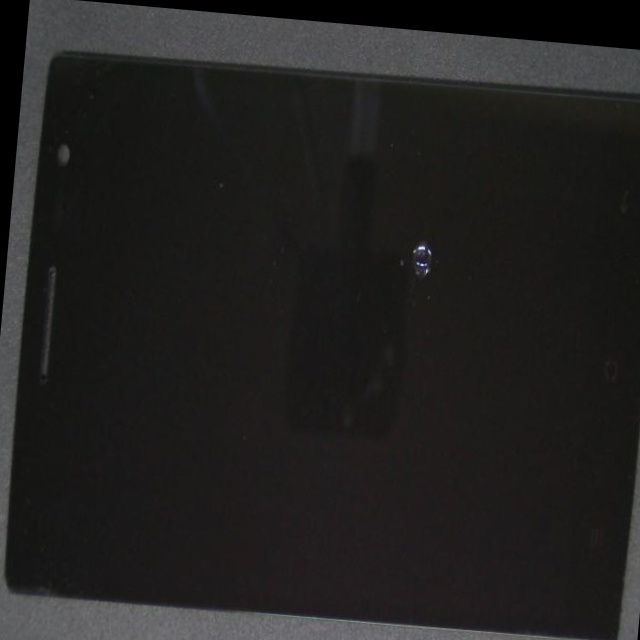oil: (221, 164, 640, 385)
